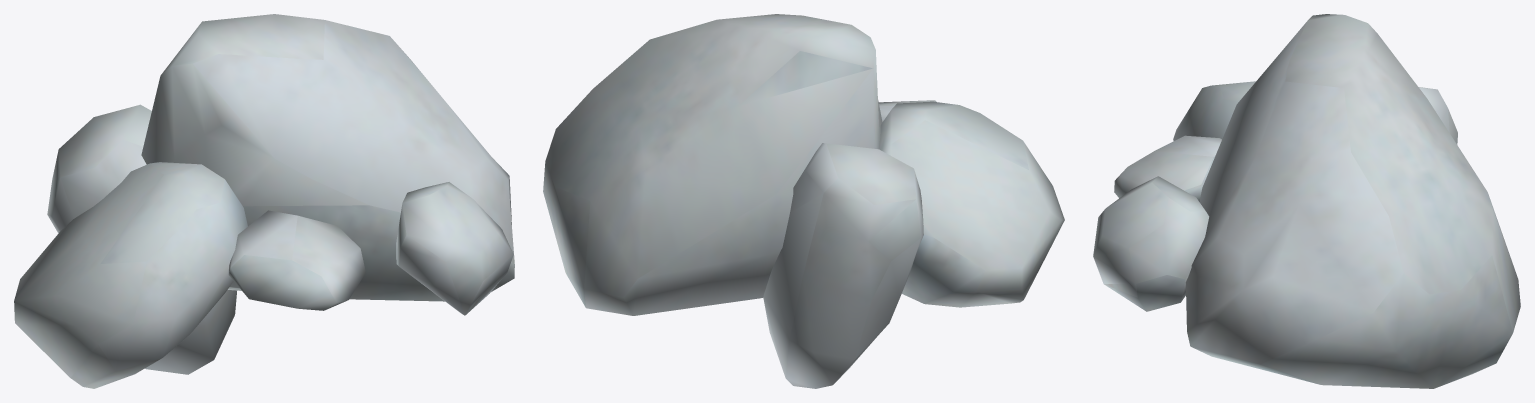
Rendered from P_RockClumpClassic8.obj.
The picture shows the model from 3 angles, left to right: view 1: azimuth 30°, elevation 25°; view 2: azimuth 150°, elevation 25°; view 3: azimuth 270°, elevation 25°; orthographic projection. The views are drawn at different scales.
Bounding box in the file's own units: 3.55 × 2.43 × 2.87.
